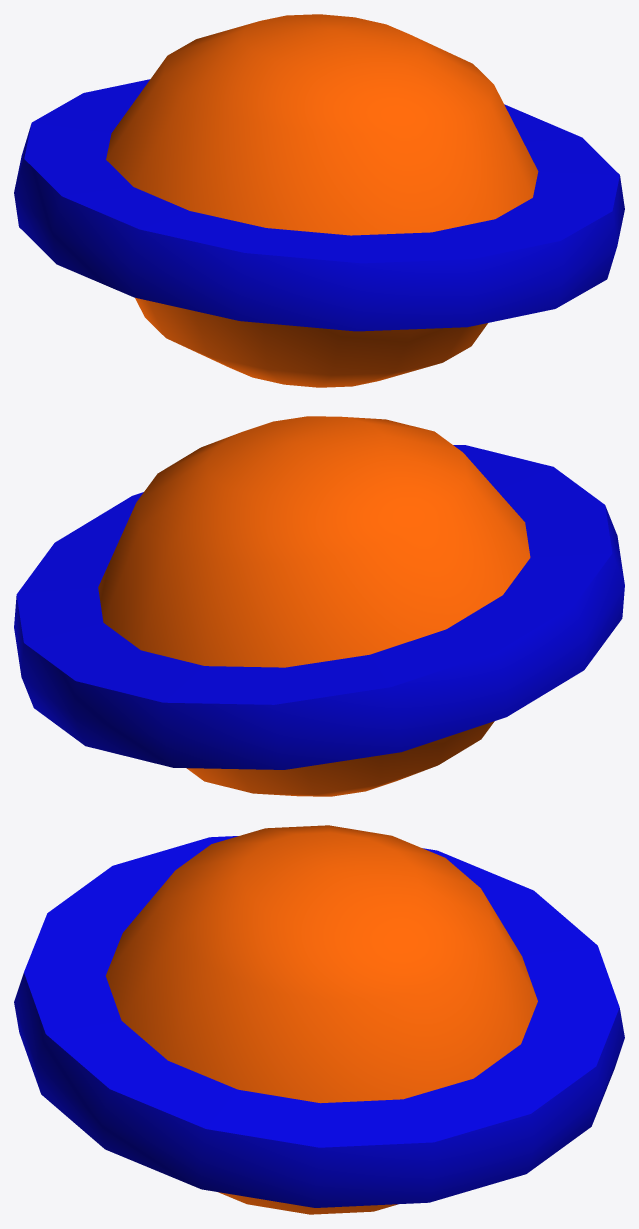
The model's file is Planet1.FBX.
3 renders of one model, top to bottom at view 1: azimuth 30°, elevation 25°; view 2: azimuth 150°, elevation 25°; view 3: azimuth 270°, elevation 25°, orthographic.
Visible parts, largest first — view 1: Sphere003; view 2: Sphere003; view 3: Sphere003.
Part boxes in pixels (x1,y1,x2,y2): Sphere003: [14, 14, 624, 387]; Sphere003: [14, 416, 624, 796]; Sphere003: [14, 825, 624, 1214].
Size of the model in its own units: 88.09 by 51.31 by 88.55.
